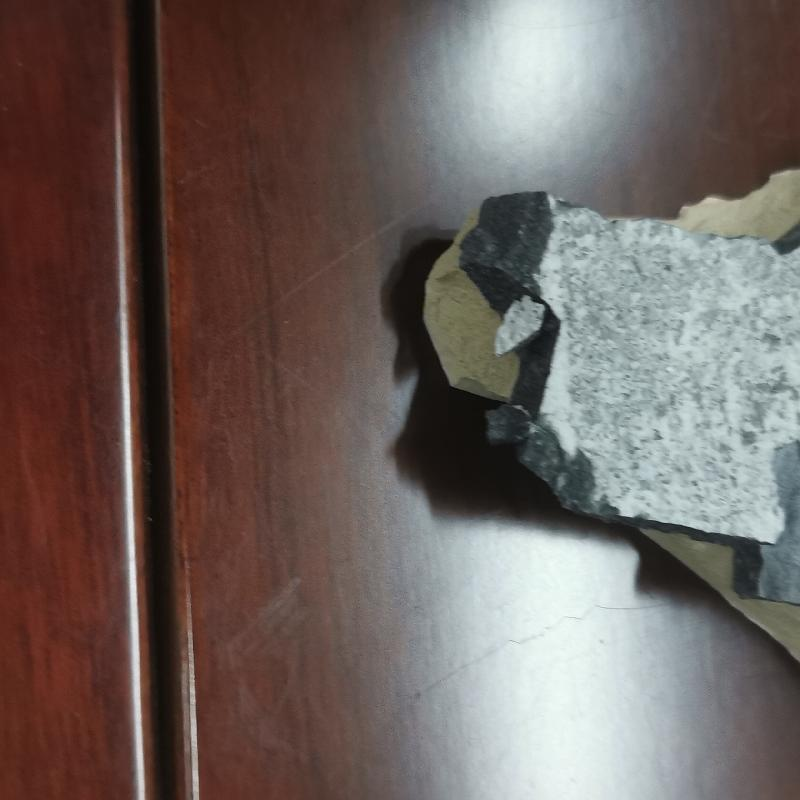tile: (419, 167, 800, 670)
